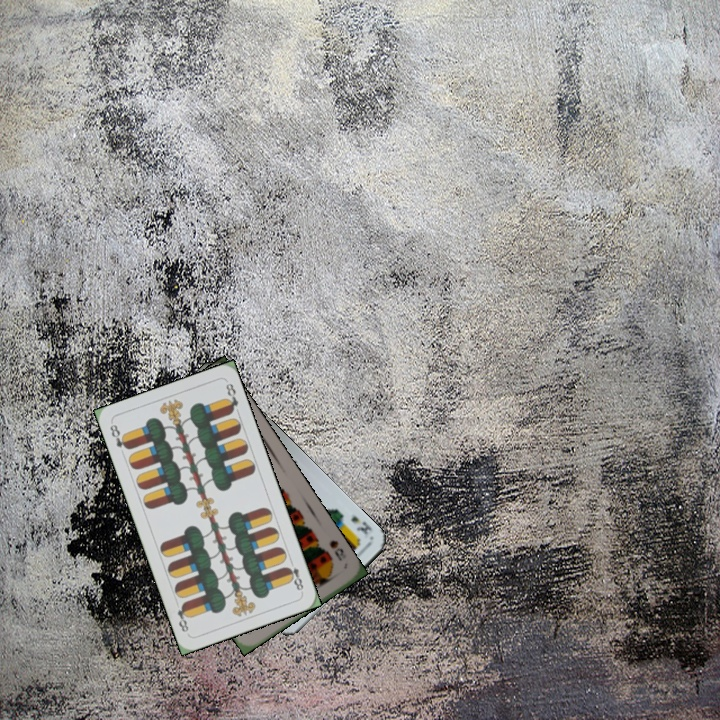E8: (282, 555, 306, 593), (106, 420, 132, 452)
EK: (347, 512, 375, 537)
S8: (325, 536, 346, 564)
